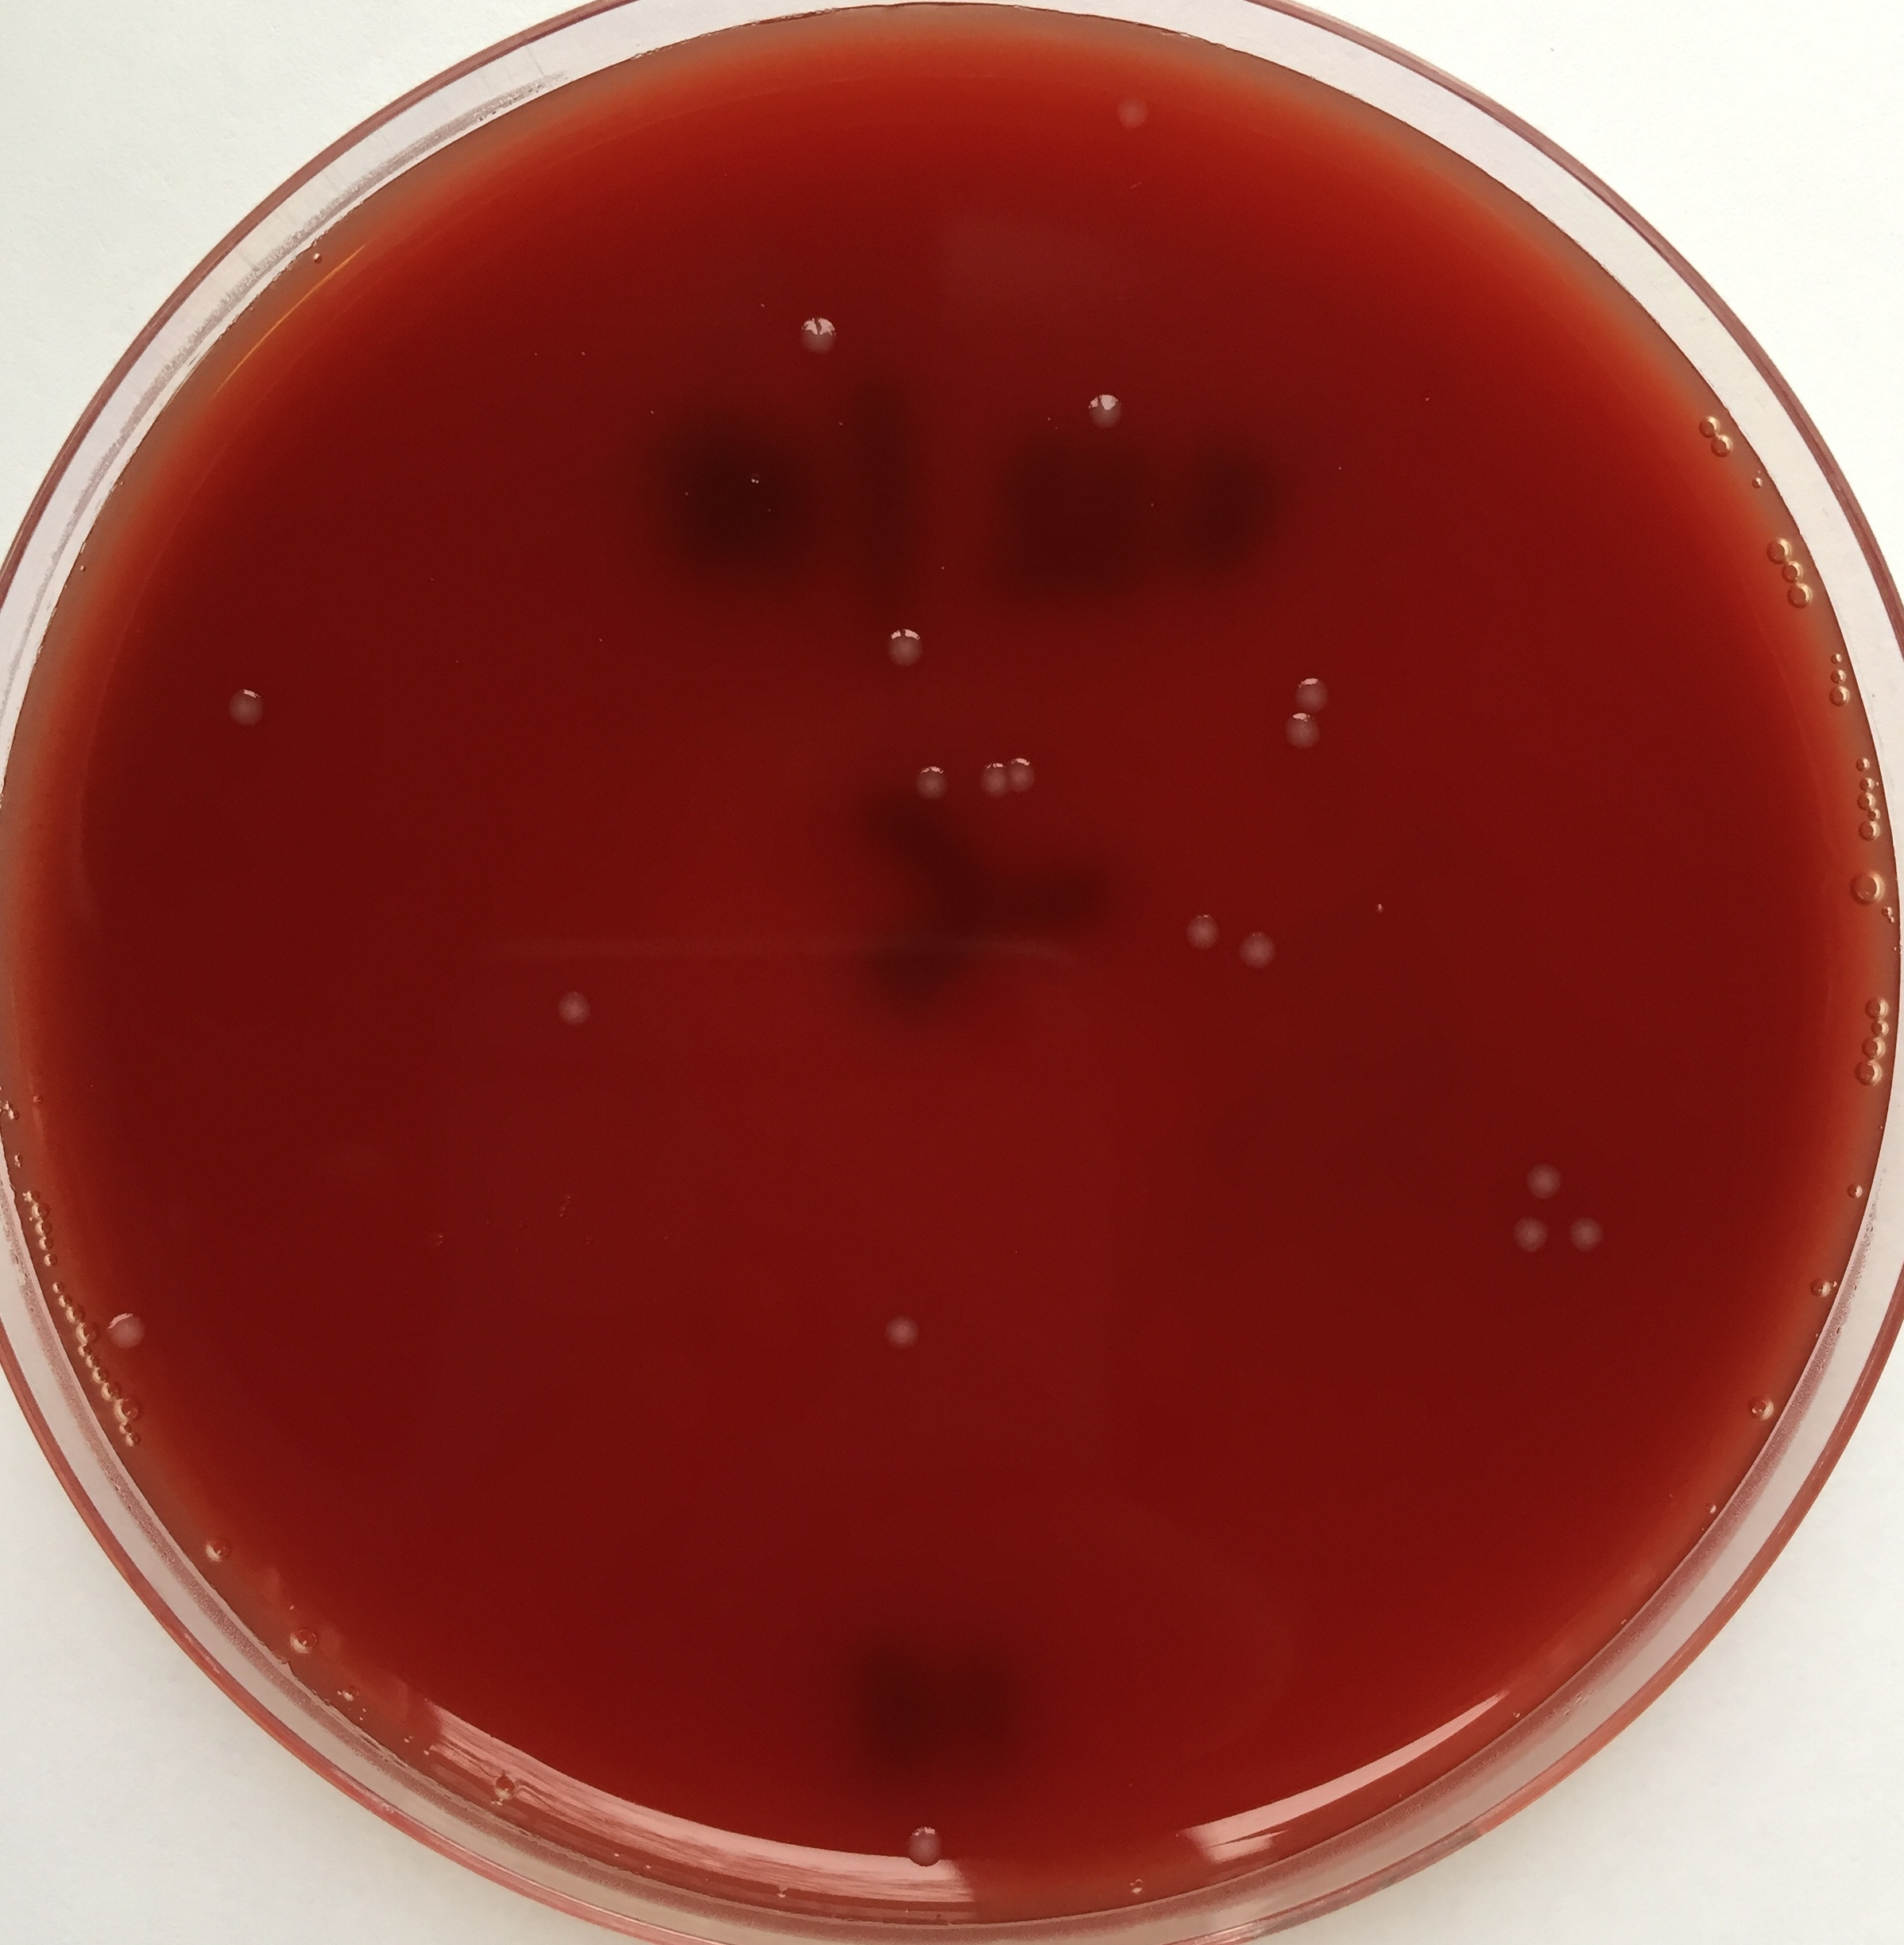sp14: (1095, 85, 1166, 159), (204, 672, 275, 741), (1275, 712, 1343, 771), (781, 300, 839, 368), (98, 1287, 155, 1354), (546, 982, 610, 1040), (1227, 925, 1287, 986), (879, 1301, 933, 1368), (1158, 902, 1219, 959), (1072, 382, 1132, 438), (1517, 1144, 1571, 1205), (894, 1819, 952, 1873), (1505, 1212, 1554, 1272), (1282, 663, 1348, 706), (879, 614, 928, 672), (975, 743, 1008, 825), (908, 748, 952, 808), (1004, 740, 1048, 797), (1566, 1216, 1604, 1268)
